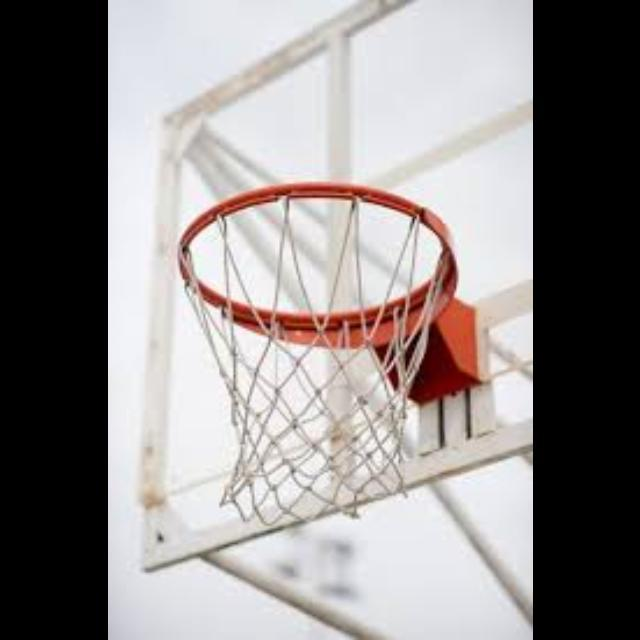rim: (178, 182, 458, 522)
